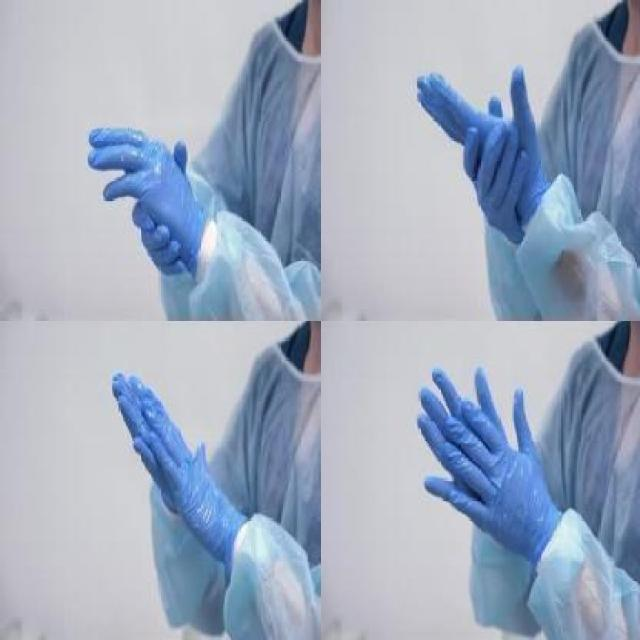hand_glove: (415, 57, 543, 234), (111, 368, 223, 550), (440, 388, 548, 555), (86, 121, 196, 274), (416, 356, 507, 516)
